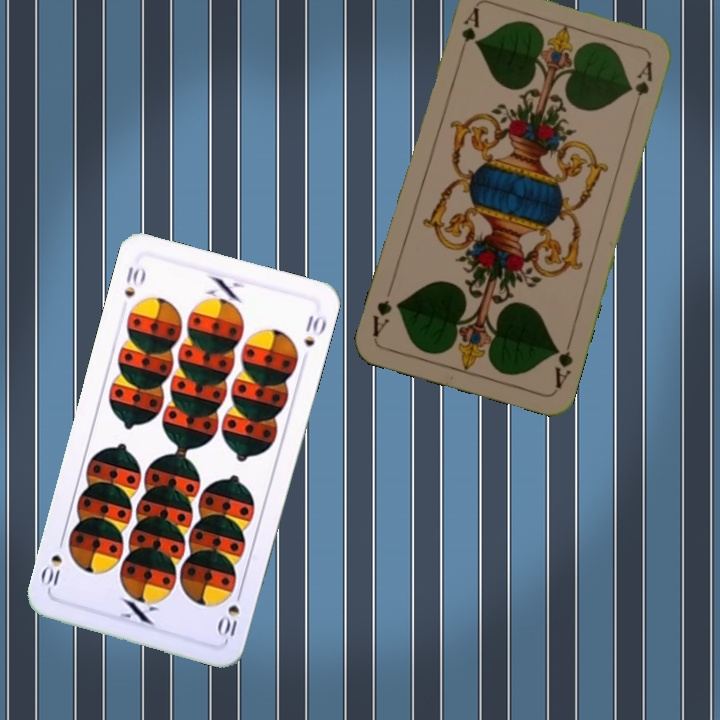GA: (454, 4, 482, 61), (550, 333, 576, 391)
S10: (214, 585, 245, 639), (120, 262, 148, 300)
